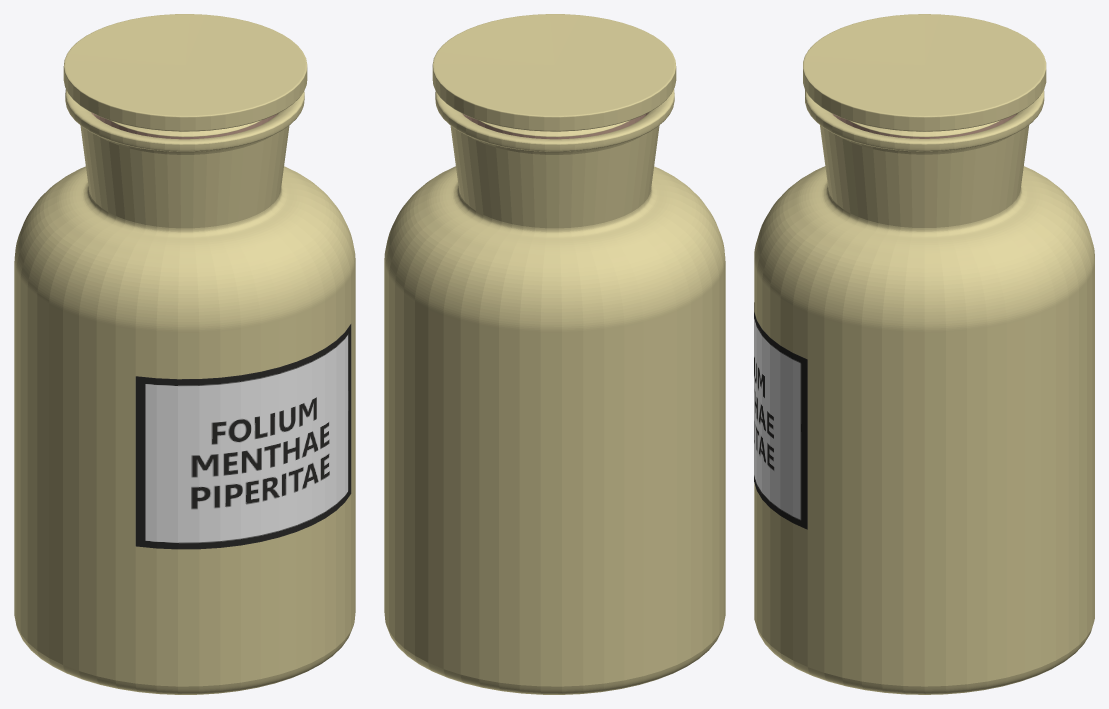
Rendered from Flask2.fbx.
3 views of the same model, side by side, from view 1: azimuth 30°, elevation 25°; view 2: azimuth 150°, elevation 25°; view 3: azimuth 270°, elevation 25° (orthographic).
Parts seen in each view (by area): view 1: Line002, Line007, Line008; view 2: Line002, Line008; view 3: Line002, Line008, Line007.
Part boxes in pixels (left/top/right/bottom): Line002: left=14, top=89, right=355, bottom=694; Line007: left=135, top=324, right=351, bottom=549; Line008: left=63, top=14, right=307, bottom=139; Line002: left=384, top=89, right=725, bottom=694; Line008: left=432, top=14, right=676, bottom=139; Line002: left=754, top=90, right=1094, bottom=694; Line008: left=803, top=14, right=1046, bottom=138; Line007: left=754, top=302, right=807, bottom=529.
Size of the model in its own units: 2.1 by 3.82 by 2.1.
3 materials, 1 textured.
